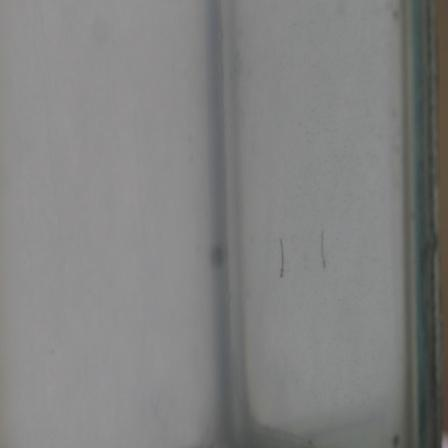Jentik-Nyamuk: (274, 235, 291, 283)
